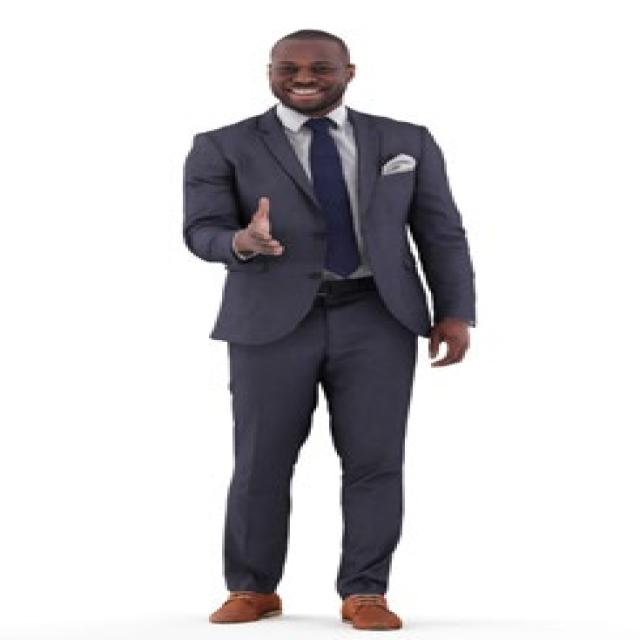standing: (178, 28, 490, 633)
